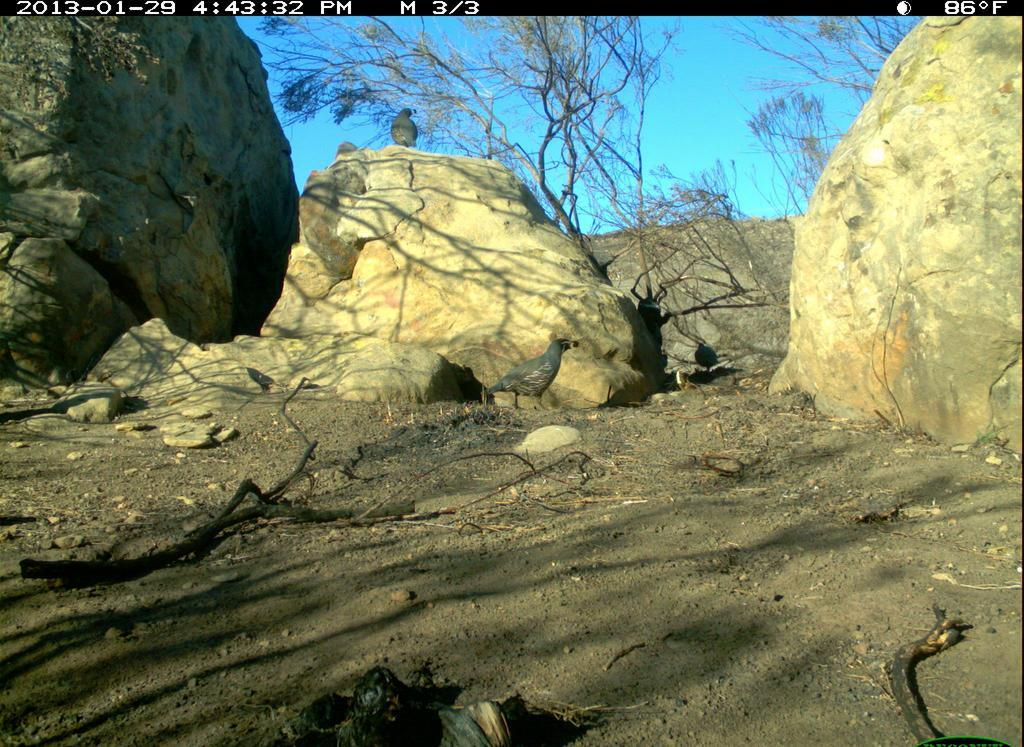bird: (482, 332, 585, 413), (388, 102, 428, 153)
